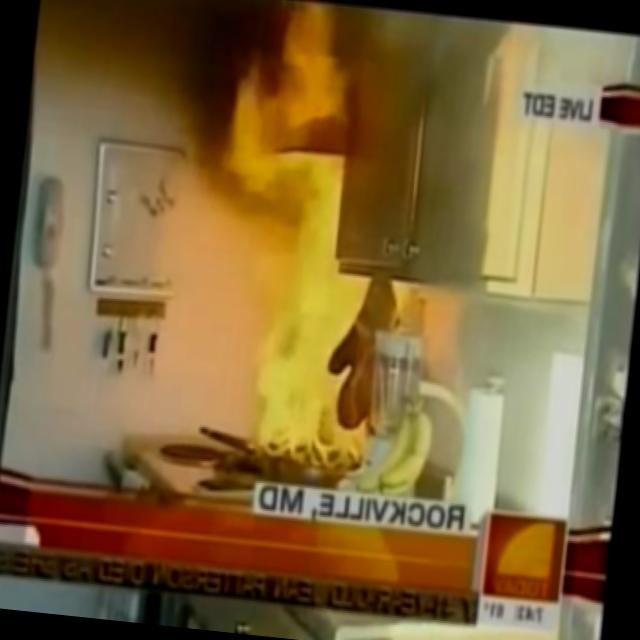fire: (228, 0, 369, 451)
